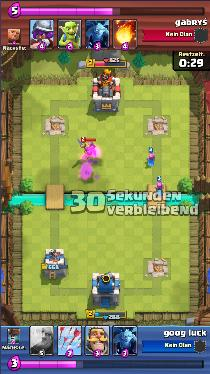ally_archer: (155, 180, 166, 195), (145, 151, 155, 166)
enemy_knight: (77, 138, 97, 159)
